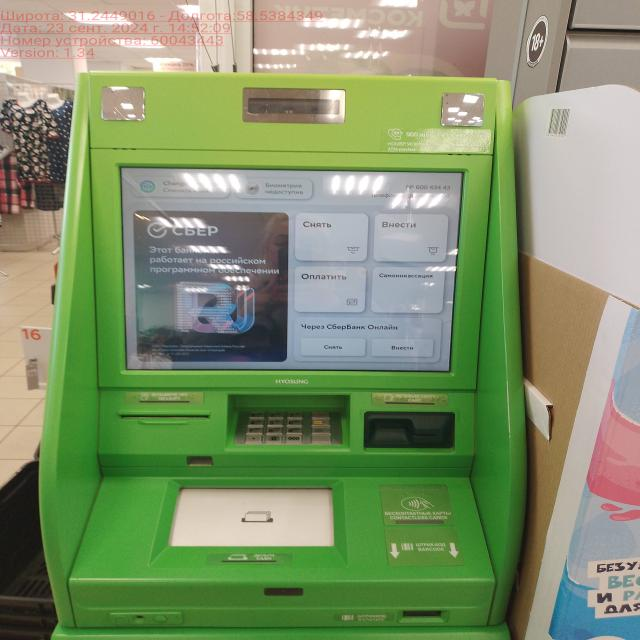bank: (41, 69, 528, 640)
